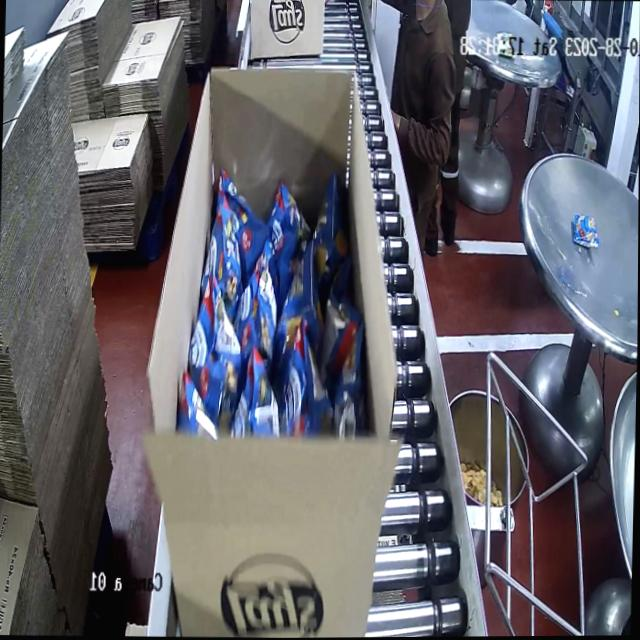PAPRIKA: (178, 152, 365, 436)
